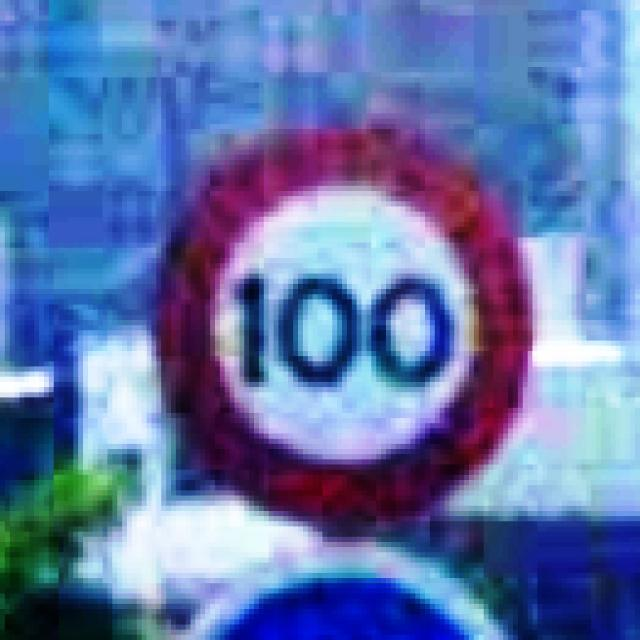max100: (152, 114, 538, 536)
